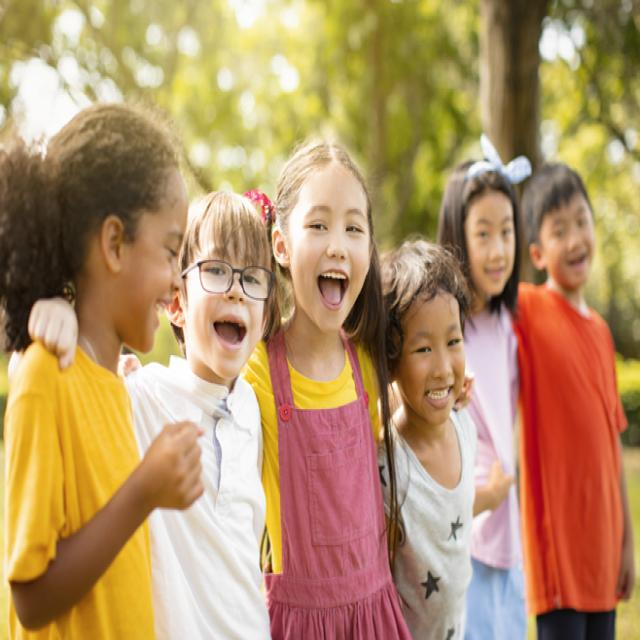child: (1, 98, 204, 640), (253, 140, 405, 640), (126, 188, 274, 640), (515, 164, 636, 640), (438, 158, 524, 640), (376, 233, 475, 640)
